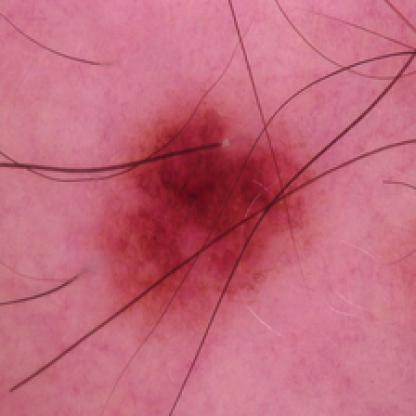benign: (108, 95, 323, 297)
